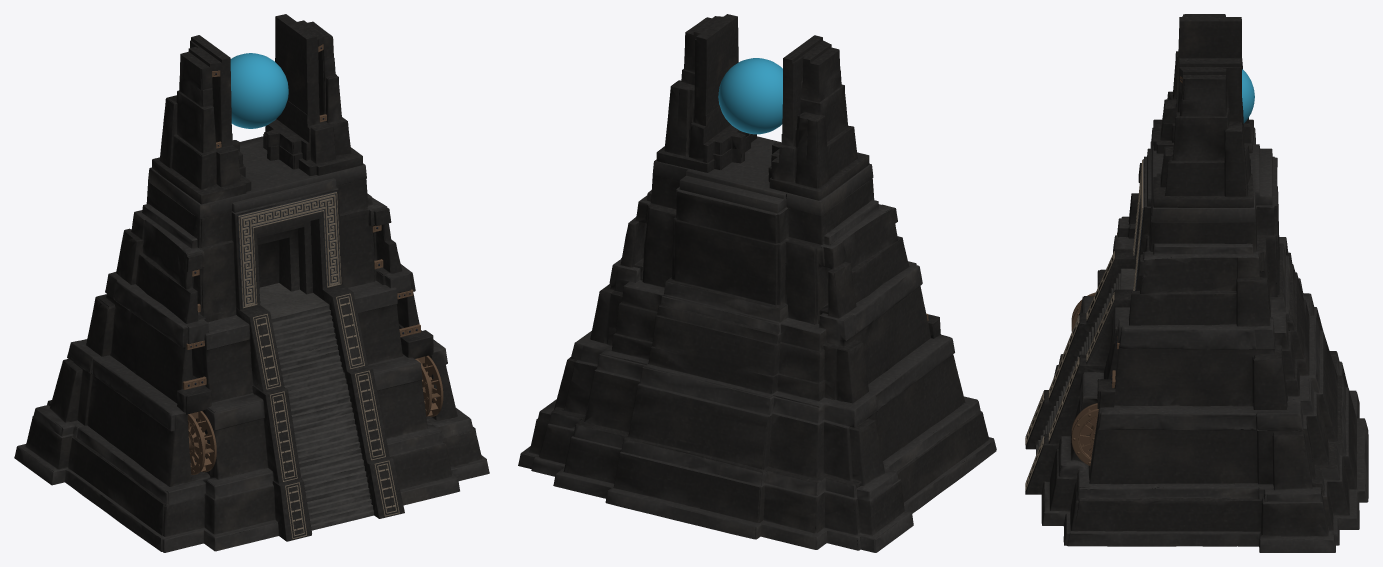
The model's file is Pyramid_Assembly_Test01.fbx.
3 renders of one model, left to right at view 1: azimuth 30°, elevation 25°; view 2: azimuth 150°, elevation 25°; view 3: azimuth 270°, elevation 25°, orthographic.
Parts seen in each view (by area): view 1: LP_Architecture_Clean, CoreSphere_LowPoly_UV_07.015, Meander_Continuous_U_Ribbon_21.001, Meander_Continuous_U_Backing_21.001, StairRail_Rect07_Right, StairRail_Rect07_Left, WheelFit01_RotorMesh, WheelFit01_RotorMesh.001, Meander_Continuous_U_FineBorders_21.001; view 2: LP_Architecture_Clean, CoreSphere_LowPoly_UV_07.015; view 3: LP_Architecture_Clean, WheelFit01_RotorMesh.001, StairRail_Rect07_Left, StairRail_Rect07_Right, CoreSphere_LowPoly_UV_07.015.
Part boxes in pixels (bbox=[...]): LP_Architecture_Clean: bbox=[14, 14, 489, 552]; CoreSphere_LowPoly_UV_07.015: bbox=[230, 53, 288, 128]; Meander_Continuous_U_Ribbon_21.001: bbox=[240, 194, 339, 306]; Meander_Continuous_U_Backing_21.001: bbox=[237, 191, 340, 308]; StairRail_Rect07_Right: bbox=[336, 293, 399, 516]; StairRail_Rect07_Left: bbox=[253, 313, 306, 539]; WheelFit01_RotorMesh: bbox=[187, 411, 216, 474]; WheelFit01_RotorMesh.001: bbox=[415, 355, 443, 416]; Meander_Continuous_U_FineBorders_21.001: bbox=[238, 192, 341, 308]; LP_Architecture_Clean: bbox=[518, 14, 996, 552]; CoreSphere_LowPoly_UV_07.015: bbox=[718, 58, 782, 134]; LP_Architecture_Clean: bbox=[1025, 14, 1368, 552]; WheelFit01_RotorMesh.001: bbox=[1071, 403, 1098, 465]; StairRail_Rect07_Left: bbox=[1025, 251, 1114, 445]; StairRail_Rect07_Right: bbox=[1025, 292, 1114, 490]; CoreSphere_LowPoly_UV_07.015: bbox=[1242, 69, 1254, 123].
Size of the model in its own units: 0.7036 by 0.7995 by 0.5854.
